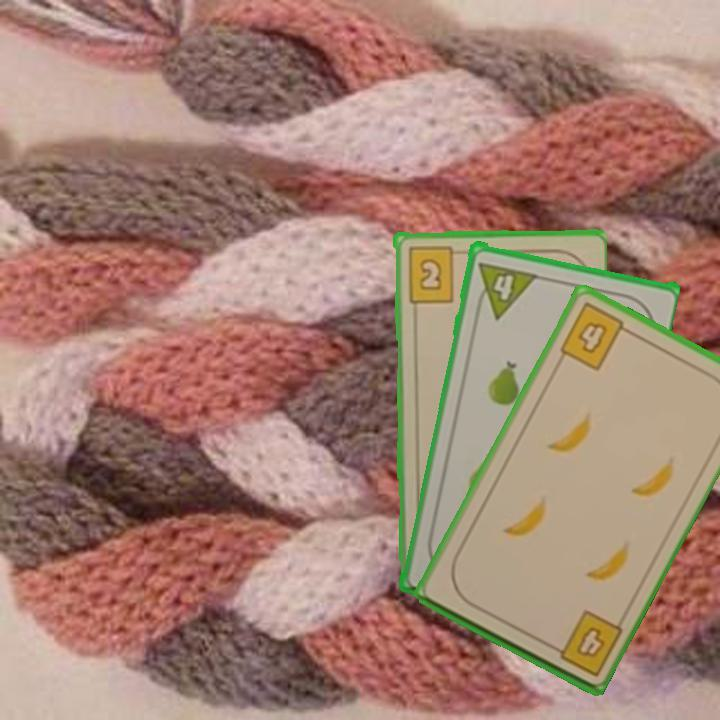2b: (404, 243, 465, 304)
4b: (555, 298, 635, 374), (544, 606, 625, 680)
4p: (471, 258, 538, 320)
